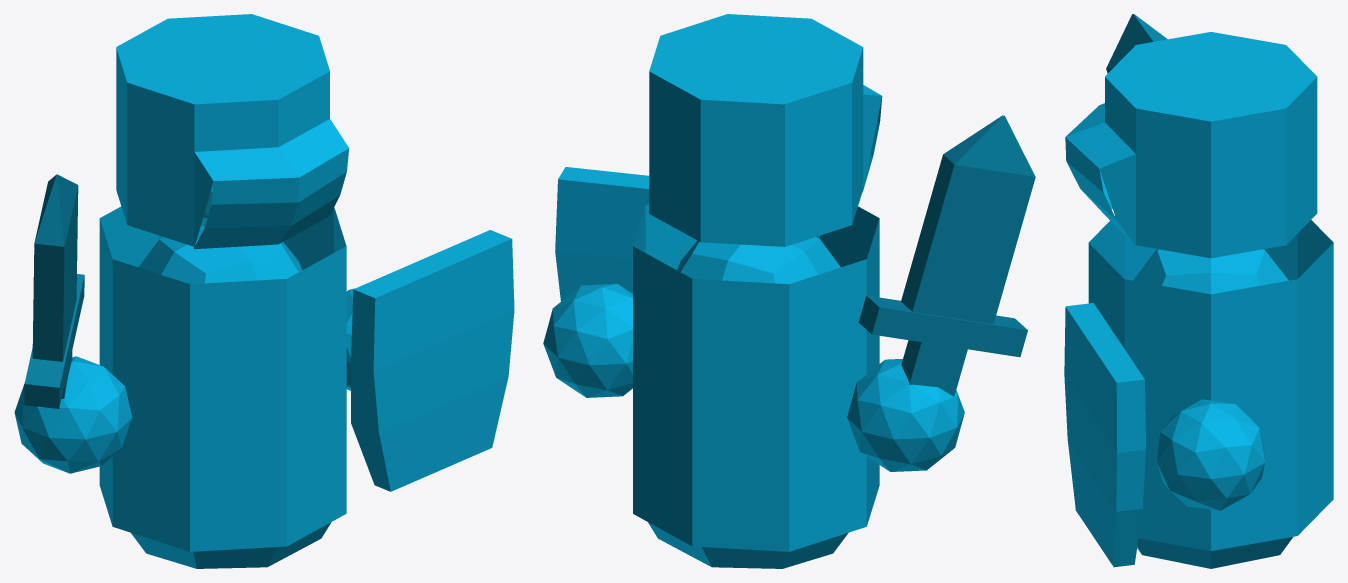
The picture shows the model from 3 angles, left to right: view 1: azimuth 30°, elevation 25°; view 2: azimuth 150°, elevation 25°; view 3: azimuth 270°, elevation 25°; orthographic projection. The views are drawn at different scales.
Visible parts, largest first — view 1: 柱体, 柱体.001, 立方体.004, 棱角球.001, 立方体, 立方体.003, 立方体.002; view 2: 柱体, 柱体.001, 立方体.003, 立方体.004, 棱角球.001, 立方体, 棱角球, 立方体.002, 立方体.001; view 3: 柱体, 柱体.001, 立方体.004, 棱角球, 立方体, 立方体.003.
Boxes of the visible parts, bbox=[...] form: 柱体: bbox=[99, 206, 346, 551]; 柱体.001: bbox=[116, 14, 349, 249]; 立方体.004: bbox=[351, 230, 514, 491]; 棱角球.001: bbox=[14, 356, 132, 473]; 立方体: bbox=[131, 225, 331, 568]; 立方体.003: bbox=[32, 174, 78, 361]; 立方体.002: bbox=[24, 274, 84, 408]; 柱体: bbox=[633, 204, 879, 551]; 柱体.001: bbox=[649, 14, 882, 246]; 立方体.003: bbox=[901, 115, 1035, 324]; 立方体.004: bbox=[555, 167, 649, 301]; 棱角球.001: bbox=[847, 359, 964, 471]; 立方体: bbox=[648, 237, 848, 568]; 棱角球: bbox=[543, 284, 632, 397]; 立方体.002: bbox=[858, 295, 1027, 357]; 立方体.001: bbox=[901, 340, 967, 396]; 柱体: bbox=[1088, 216, 1333, 550]; 柱体.001: bbox=[1065, 32, 1317, 258]; 立方体.004: bbox=[1064, 303, 1145, 567]; 棱角球: bbox=[1157, 399, 1264, 510]; 立方体: bbox=[1133, 249, 1292, 568]; 立方体.003: bbox=[1106, 14, 1167, 73].
Size of the model in its own units: 267 by 136 by 263.
